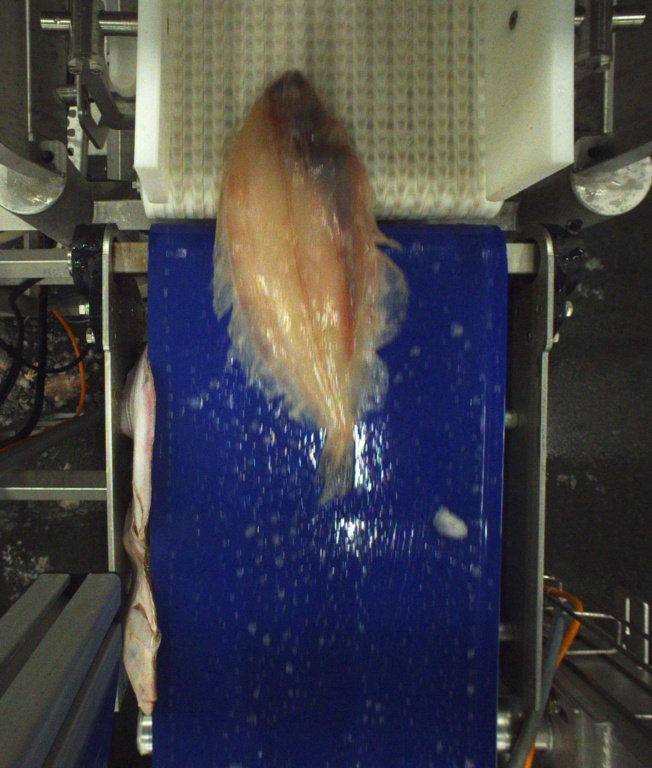WIT: (218, 67, 407, 503)
